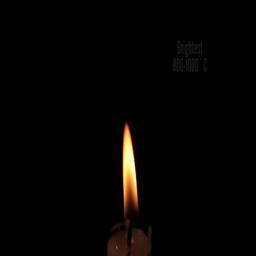fire: (120, 125, 139, 213)
